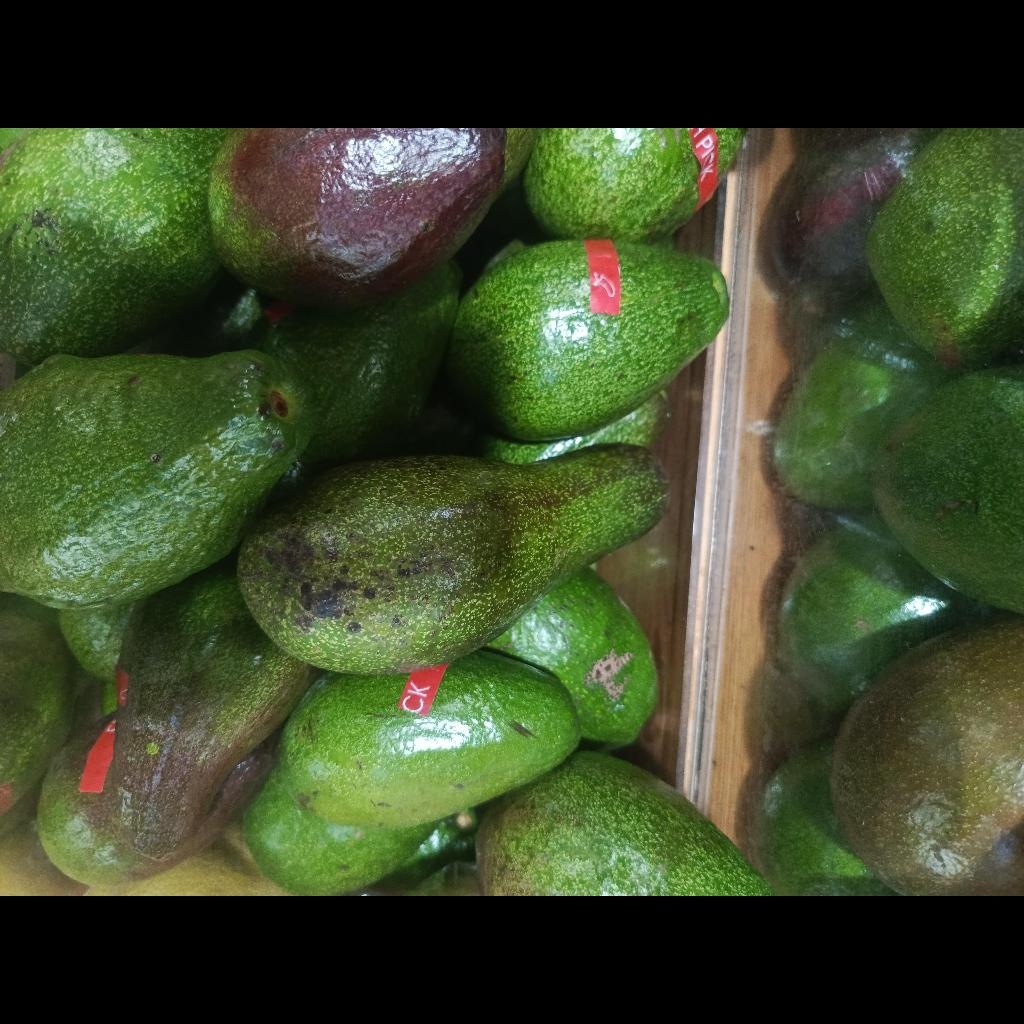antracnosis_fruto: (238, 445, 668, 674)
